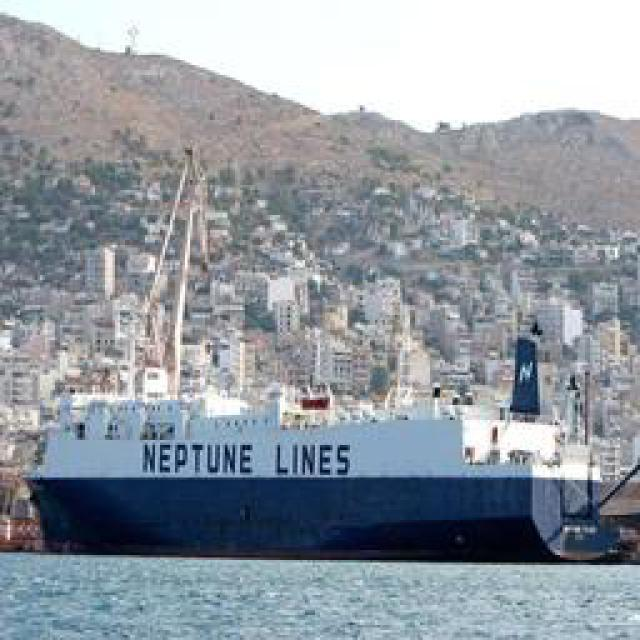Ship: (20, 260, 633, 565)
